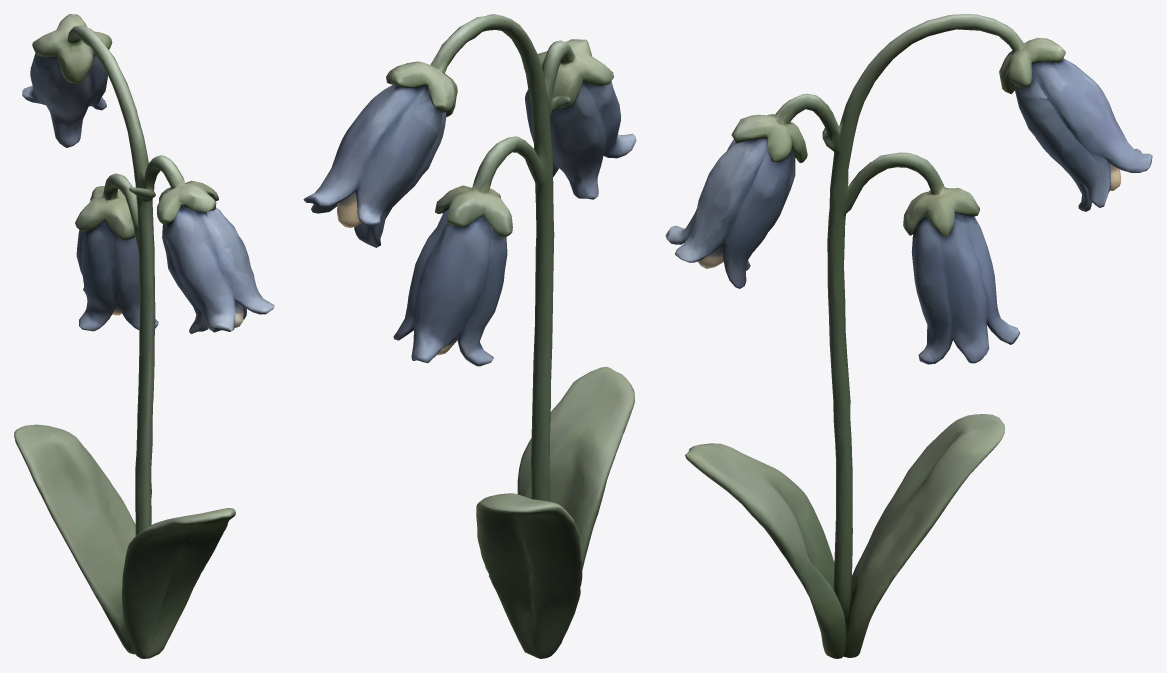
The model's file is bell-bud.glb.
The picture shows the model from 3 angles, left to right: view 1: azimuth 30°, elevation 25°; view 2: azimuth 150°, elevation 25°; view 3: azimuth 270°, elevation 25°; orthographic projection. The views are drawn at different scales.
Parts seen in each view (by area): view 1: tripo_node_01a22166-cc0f-730c-b517-39fd634b478b; view 2: tripo_node_01a22166-cc0f-730c-b517-39fd634b478b; view 3: tripo_node_01a22166-cc0f-730c-b517-39fd634b478b.
Part boxes in pixels (bbox=[...]): tripo_node_01a22166-cc0f-730c-b517-39fd634b478b: bbox=[14, 14, 274, 658]; tripo_node_01a22166-cc0f-730c-b517-39fd634b478b: bbox=[303, 14, 636, 658]; tripo_node_01a22166-cc0f-730c-b517-39fd634b478b: bbox=[665, 14, 1152, 658].
Size of the model in its own units: 0.2679 by 1 by 0.6888.
1 material, 1 textured.
